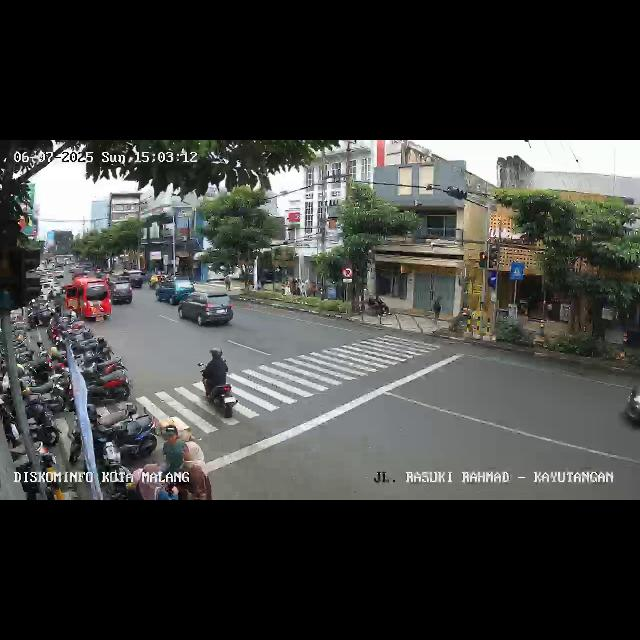car: (64, 278, 112, 324), (178, 291, 234, 329), (618, 376, 640, 434), (154, 278, 196, 308), (110, 277, 134, 305)
motorcycle: (198, 348, 236, 420)
